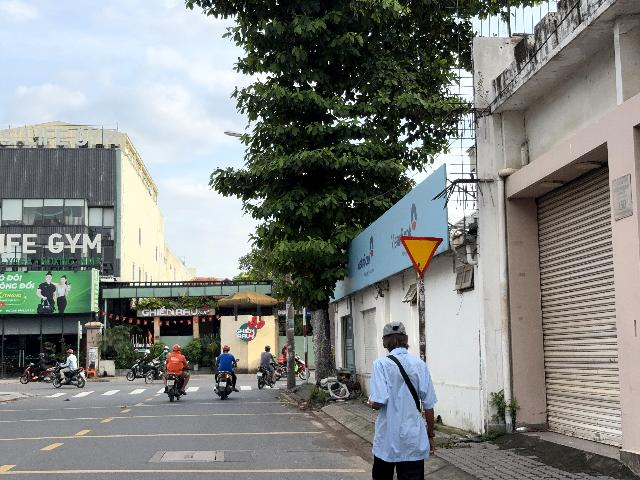giao-nhau-voi-duong-uu-tien: (399, 236, 443, 277)
